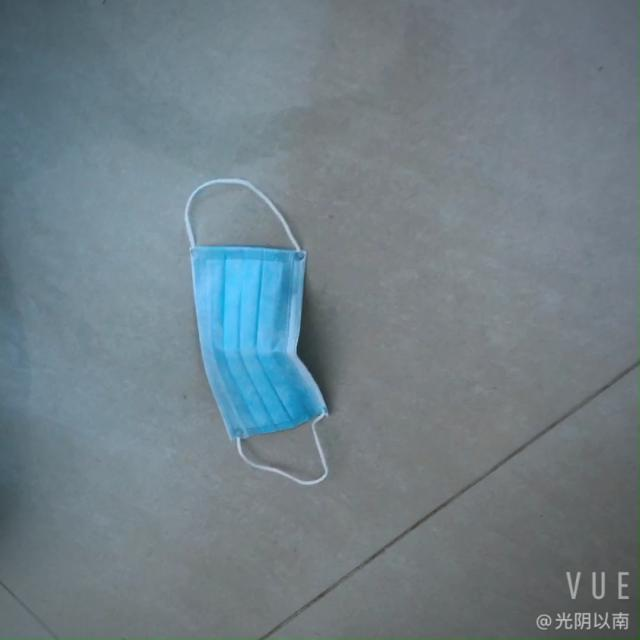non-organic waste: (184, 180, 331, 491)
